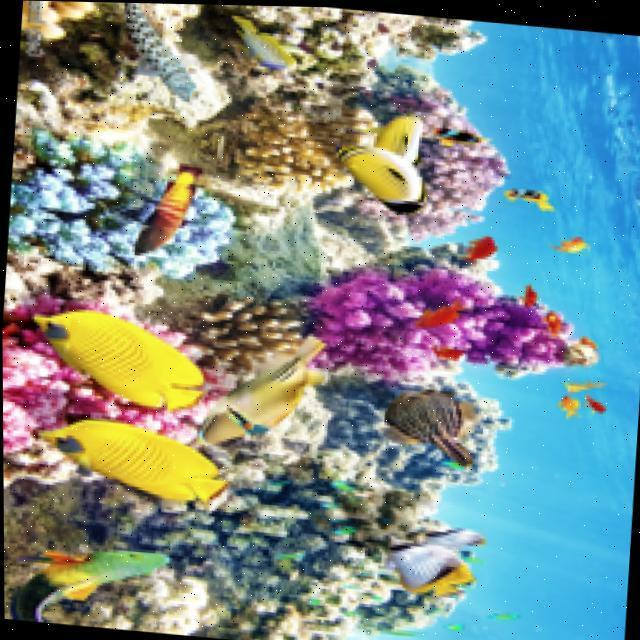Healthy Coral: (113, 410, 520, 640), (308, 230, 636, 413), (2, 280, 232, 517), (334, 48, 560, 278), (6, 125, 261, 311), (222, 41, 396, 209), (173, 278, 321, 387)
